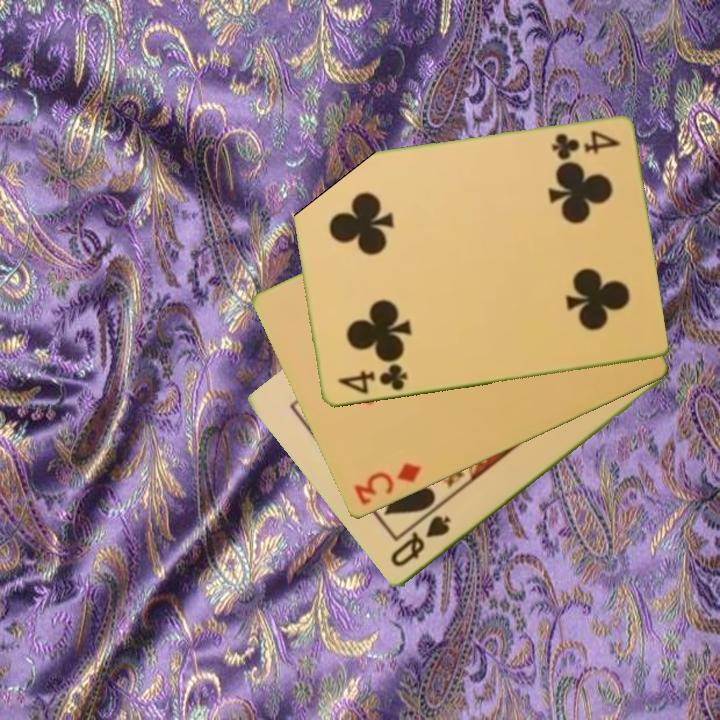3d: (350, 459, 424, 509)
4c: (334, 360, 410, 398), (548, 127, 623, 163)
Qs: (386, 512, 454, 571)
